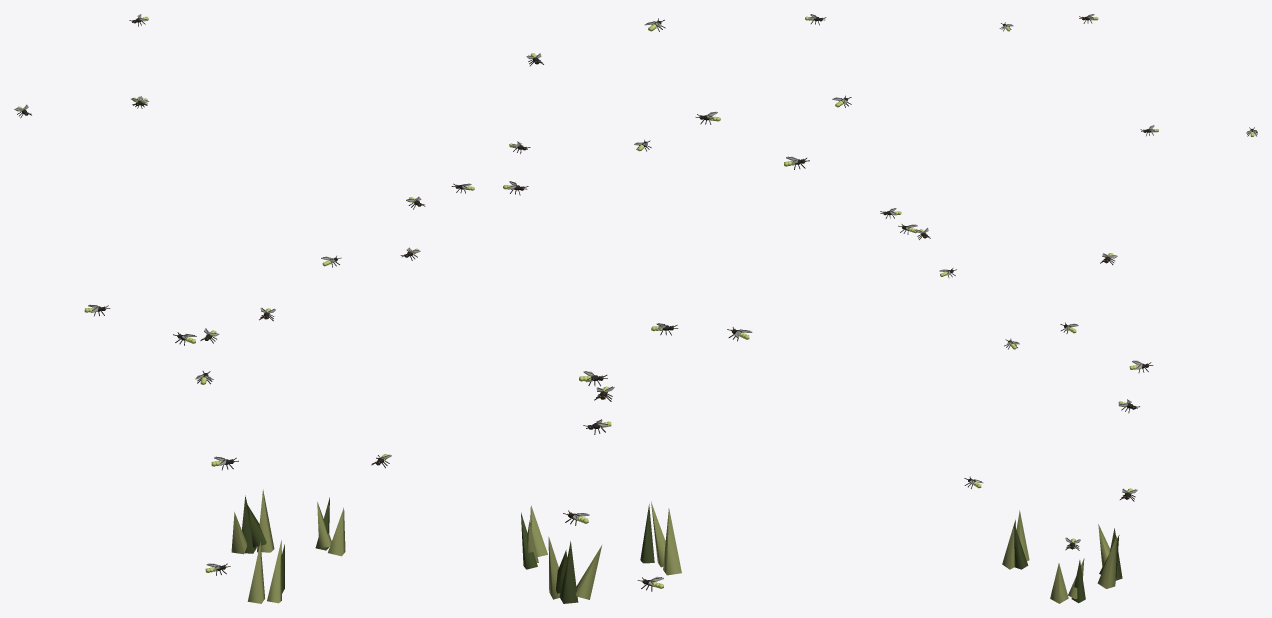
The model's file is firefly-swarm.glb.
3 renders of one model, left to right at view 1: azimuth 30°, elevation 25°; view 2: azimuth 150°, elevation 25°; view 3: azimuth 270°, elevation 25°, orthographic. The views are drawn at different scales.
Parts seen in each view (by area): view 1: firefly_swarm; view 2: firefly_swarm; view 3: firefly_swarm.
Part boxes in pixels (x1,y1,x2,y2): firefly_swarm: (14,14,474,603); firefly_swarm: (503,14,851,603); firefly_swarm: (880,14,1257,603).
Size of the model in its own units: 1.56 by 2.13 by 1.51.
